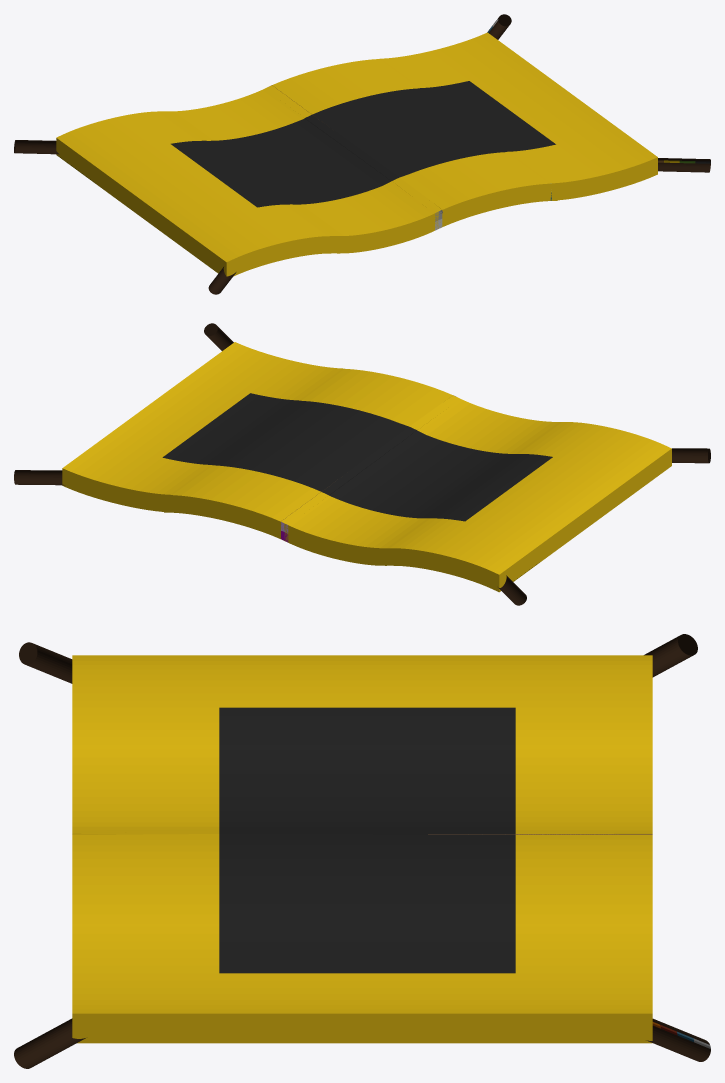
File: alfombra_Magica5.fbx
3 renders of one model, top to bottom at view 1: azimuth 30°, elevation 25°; view 2: azimuth 150°, elevation 25°; view 3: azimuth 270°, elevation 25°, orthographic. The views are drawn at different scales.
Visible parts, largest first — view 1: Cube; view 2: Cube; view 3: Cube.
Boxes of the visible parts, x1,y1,x2,y2 form: Cube: (14, 14, 710, 294); Cube: (14, 323, 710, 605); Cube: (14, 634, 710, 1068).
Size of the model in its own units: 386 by 21.53 by 269.
Materials: 2 (2 with a texture image).
